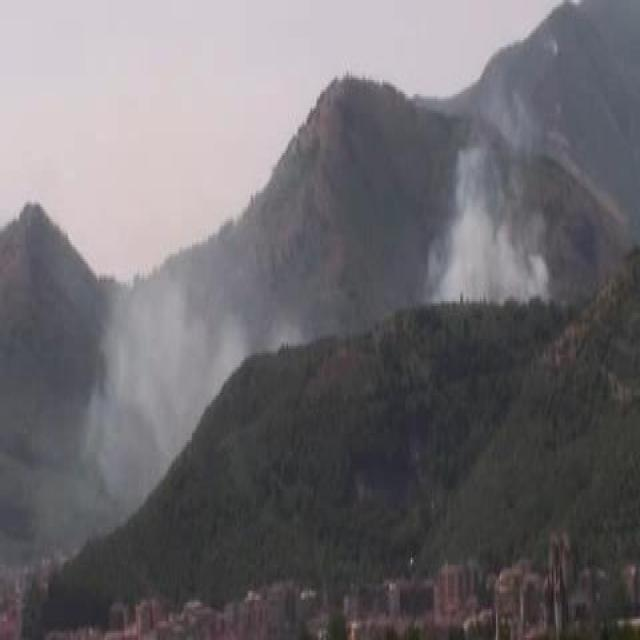Smoke: (82, 272, 215, 502), (431, 153, 549, 299)
